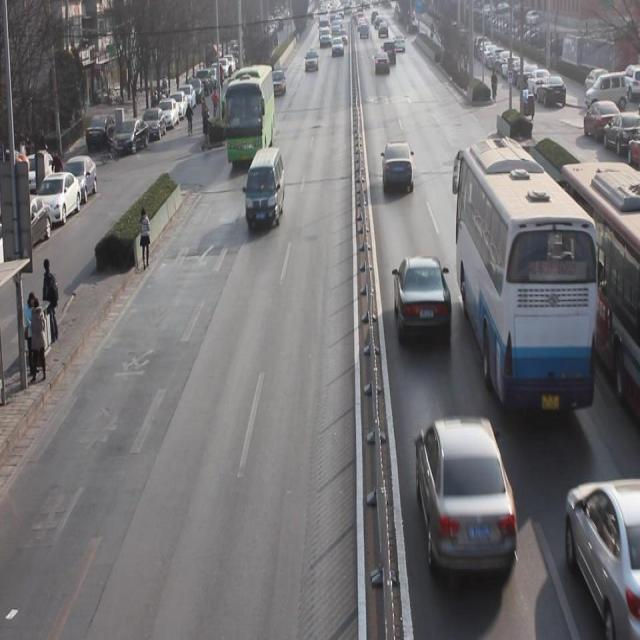car: (414, 412, 520, 582), (392, 254, 454, 348), (382, 136, 416, 194), (270, 66, 288, 96), (304, 46, 320, 75), (374, 49, 391, 74), (330, 38, 344, 58)
truck: (246, 145, 286, 231)
van: (456, 138, 596, 414), (556, 162, 640, 408), (224, 68, 273, 170)
